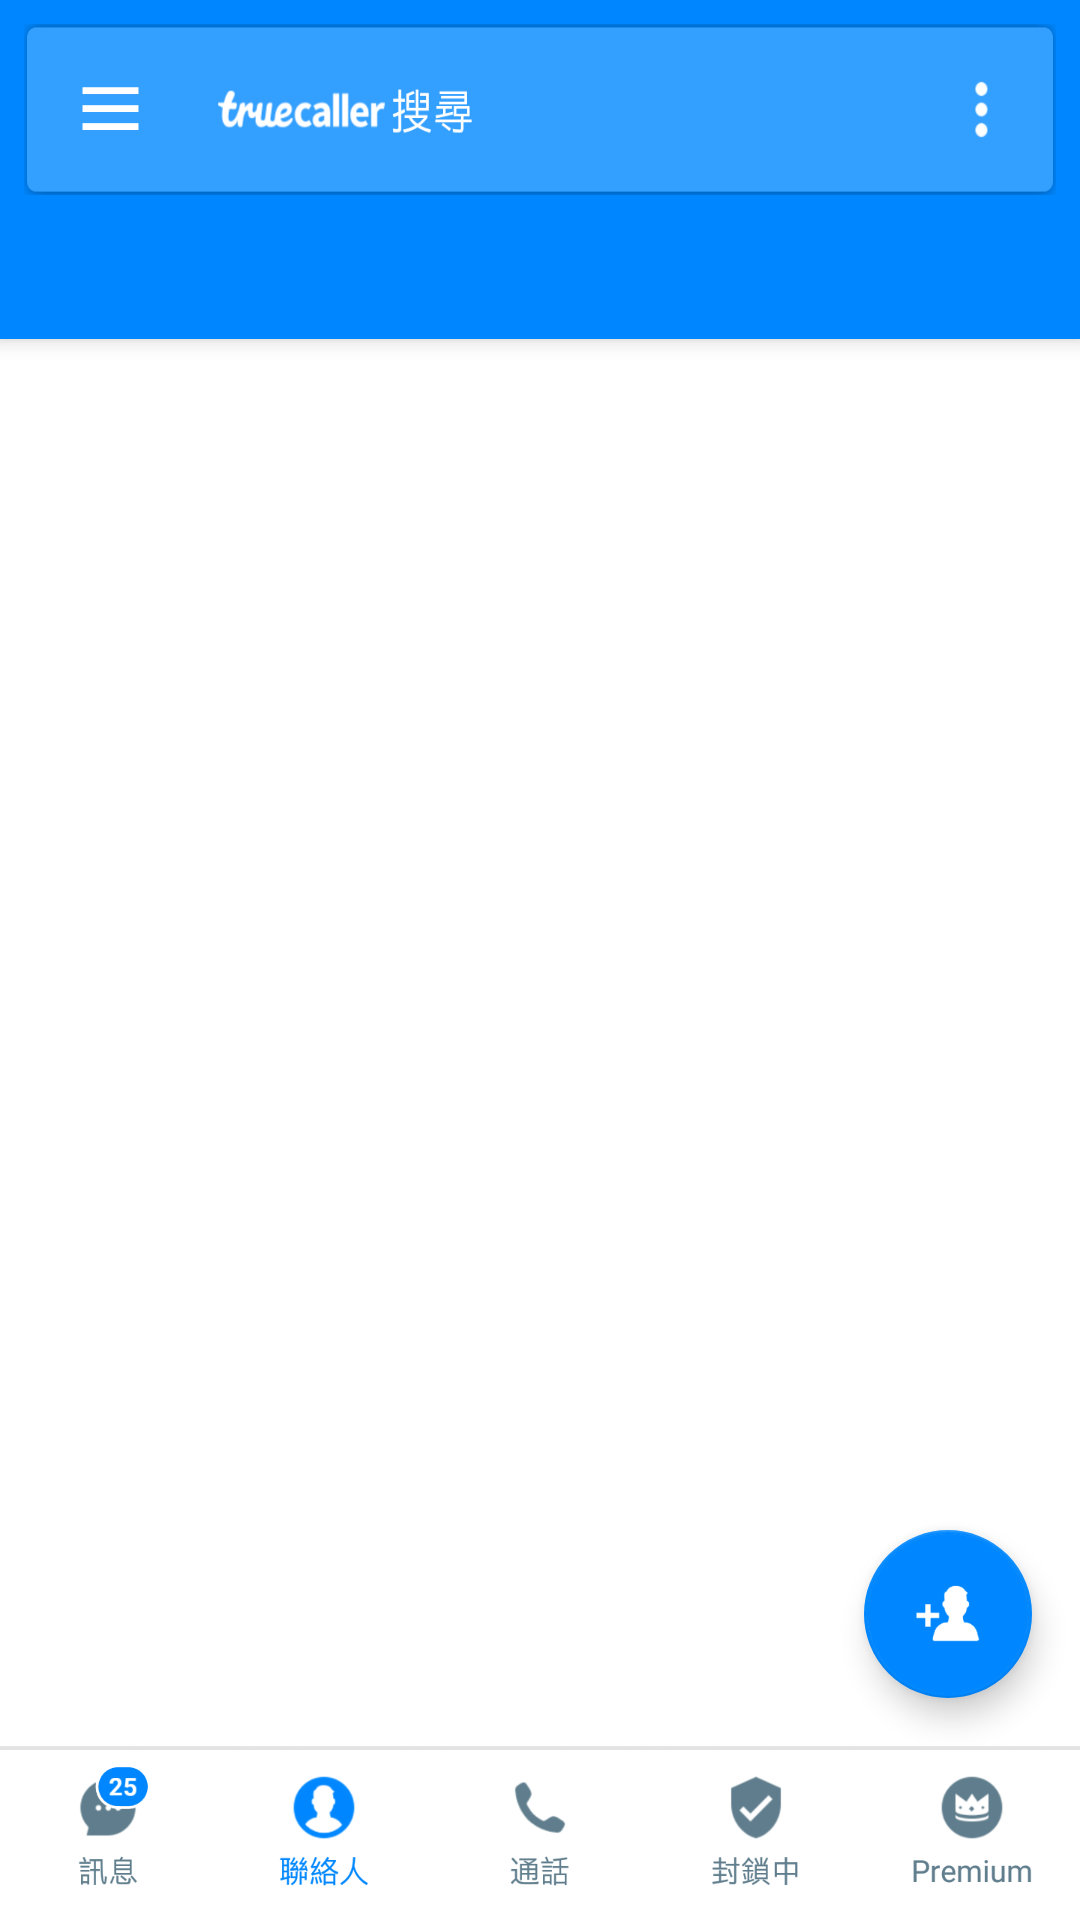

Icons on this 1080×1920 Android screen, each with its box as (x1, y1, x2, y2):
activity main add contact: (864, 1530, 1032, 1698)
